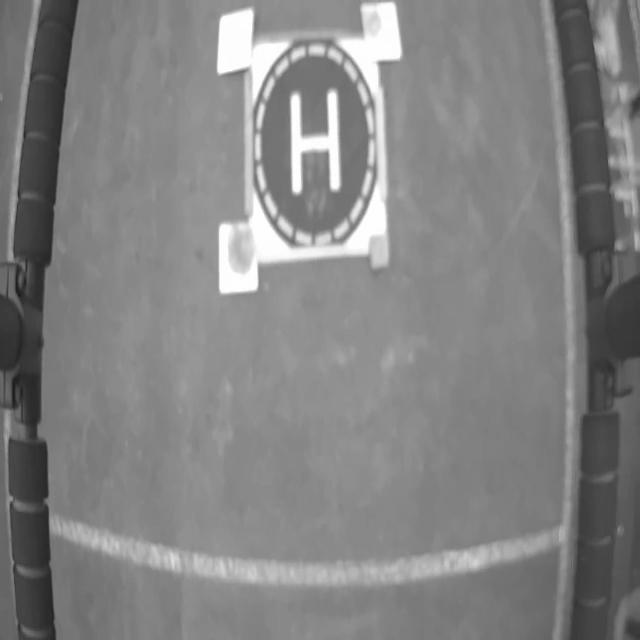Helipad: (290, 90, 342, 194)
